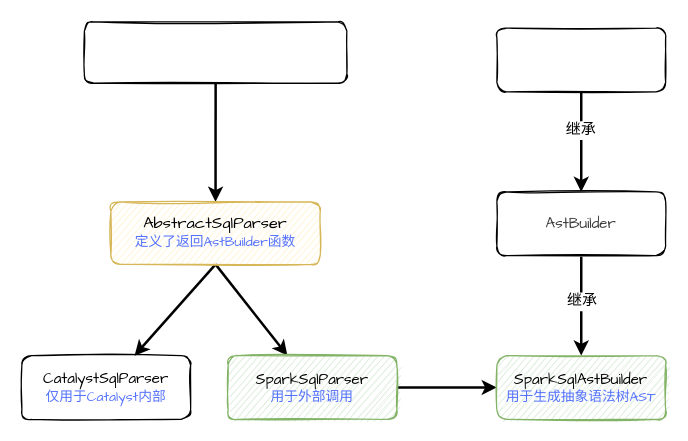
This 688x441 diagram has some shape labels left out. The shapes that lost their labels are listed below. From the top down, each one's box as (x1, y1, x2, y2) in pixels, then its label:
(83, 21, 347, 83): catalyst/parser/ParserInterfac e sql、expression等标识符解析
(496, 27, 666, 92): SqlBaseBaseVisitor
